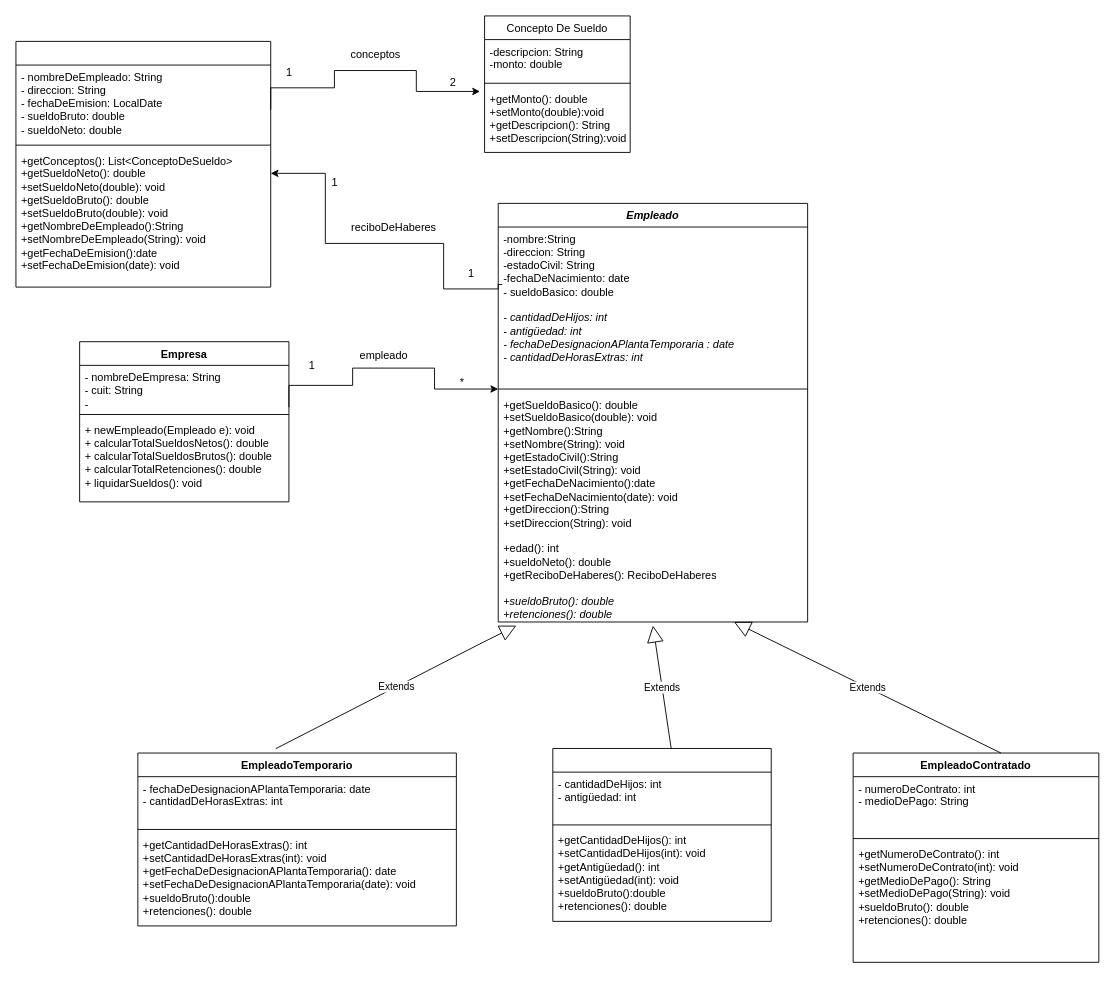
Some shapes in this 1115 by 981 pixel diagram are drawn without their labels. The box of each missing label's shape, as (x1, y1, x2, y2) in pixels:
EmpleadoPermanente: (552, 748, 771, 921)
Recibo de Haberes: (15, 40, 271, 287)
